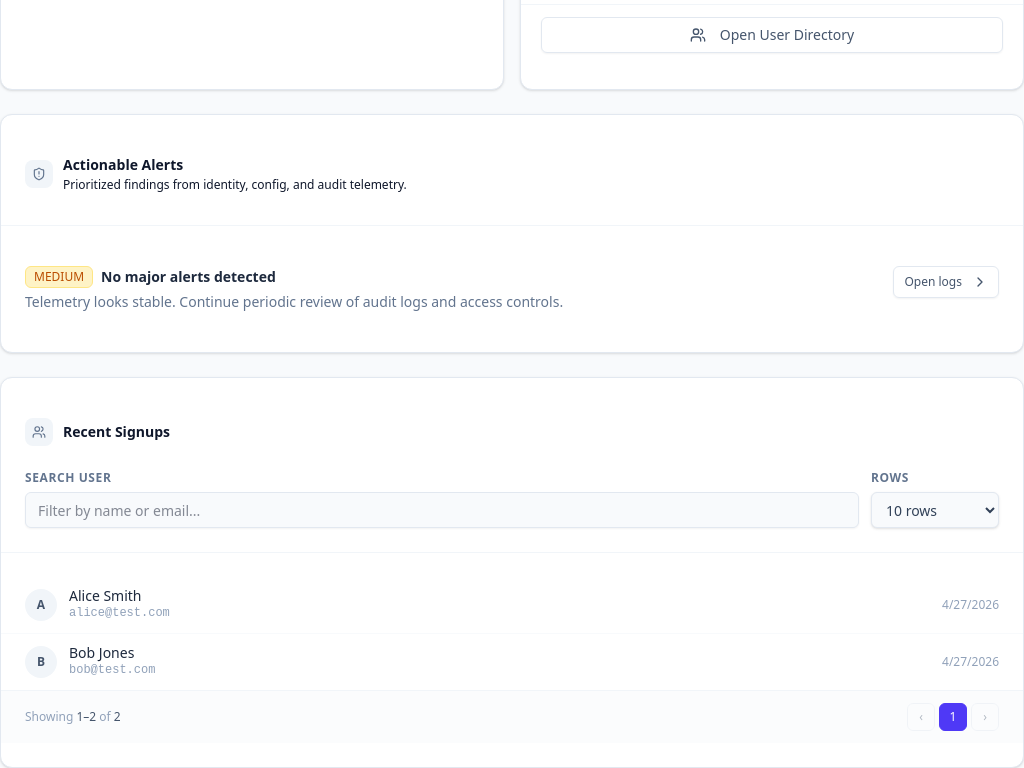
Test: SecurityTab › filters the signup list when the user types in the search input
This screenshot has width=1024, height=768.
(page scrolled)
Expected: the text "Alice Smith" is shown, left=69, top=586, right=142, bottom=605
Type "alice" into the field with placeholder "Filter by name or email..." at {"x": 442, "y": 510}, box left=25, top=492, right=859, bottom=528
(page scrolled)
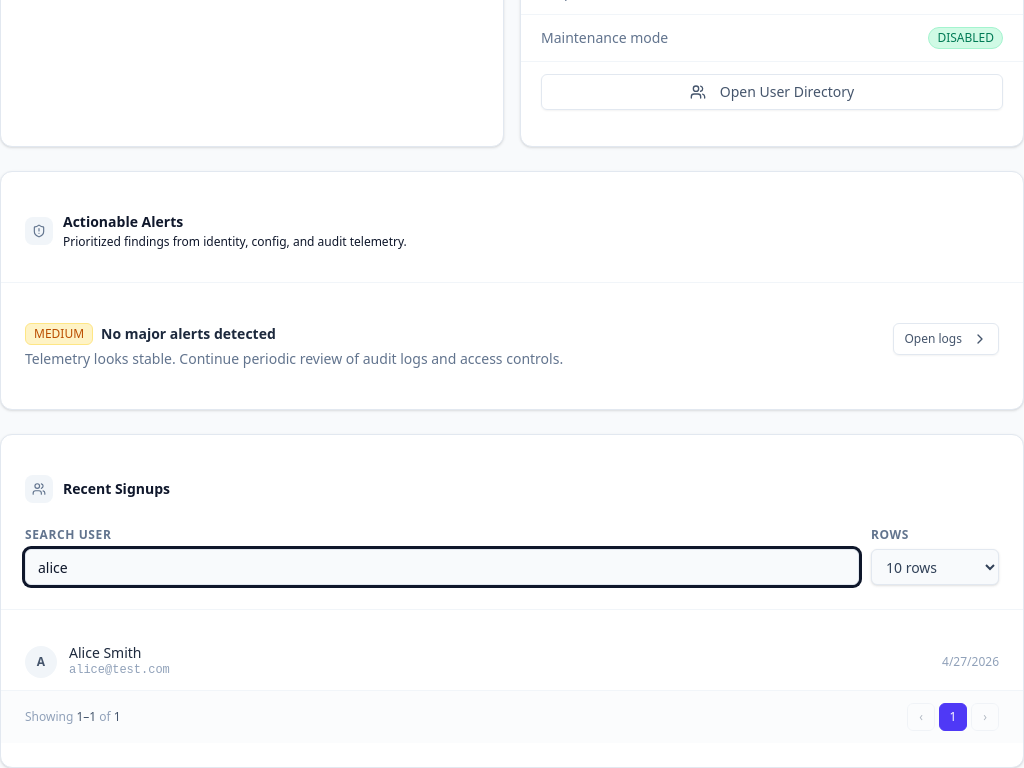
Expected: the text "Alice Smith" is shown, left=69, top=643, right=142, bottom=662
Expected: the text "Bob Jones" is gone
